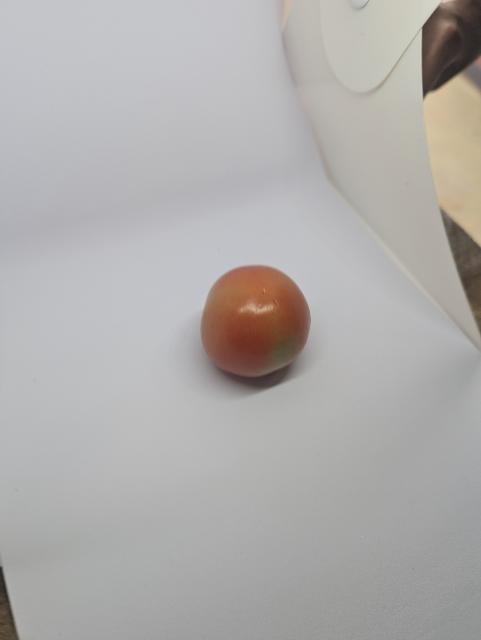turning: (196, 249, 332, 395)
